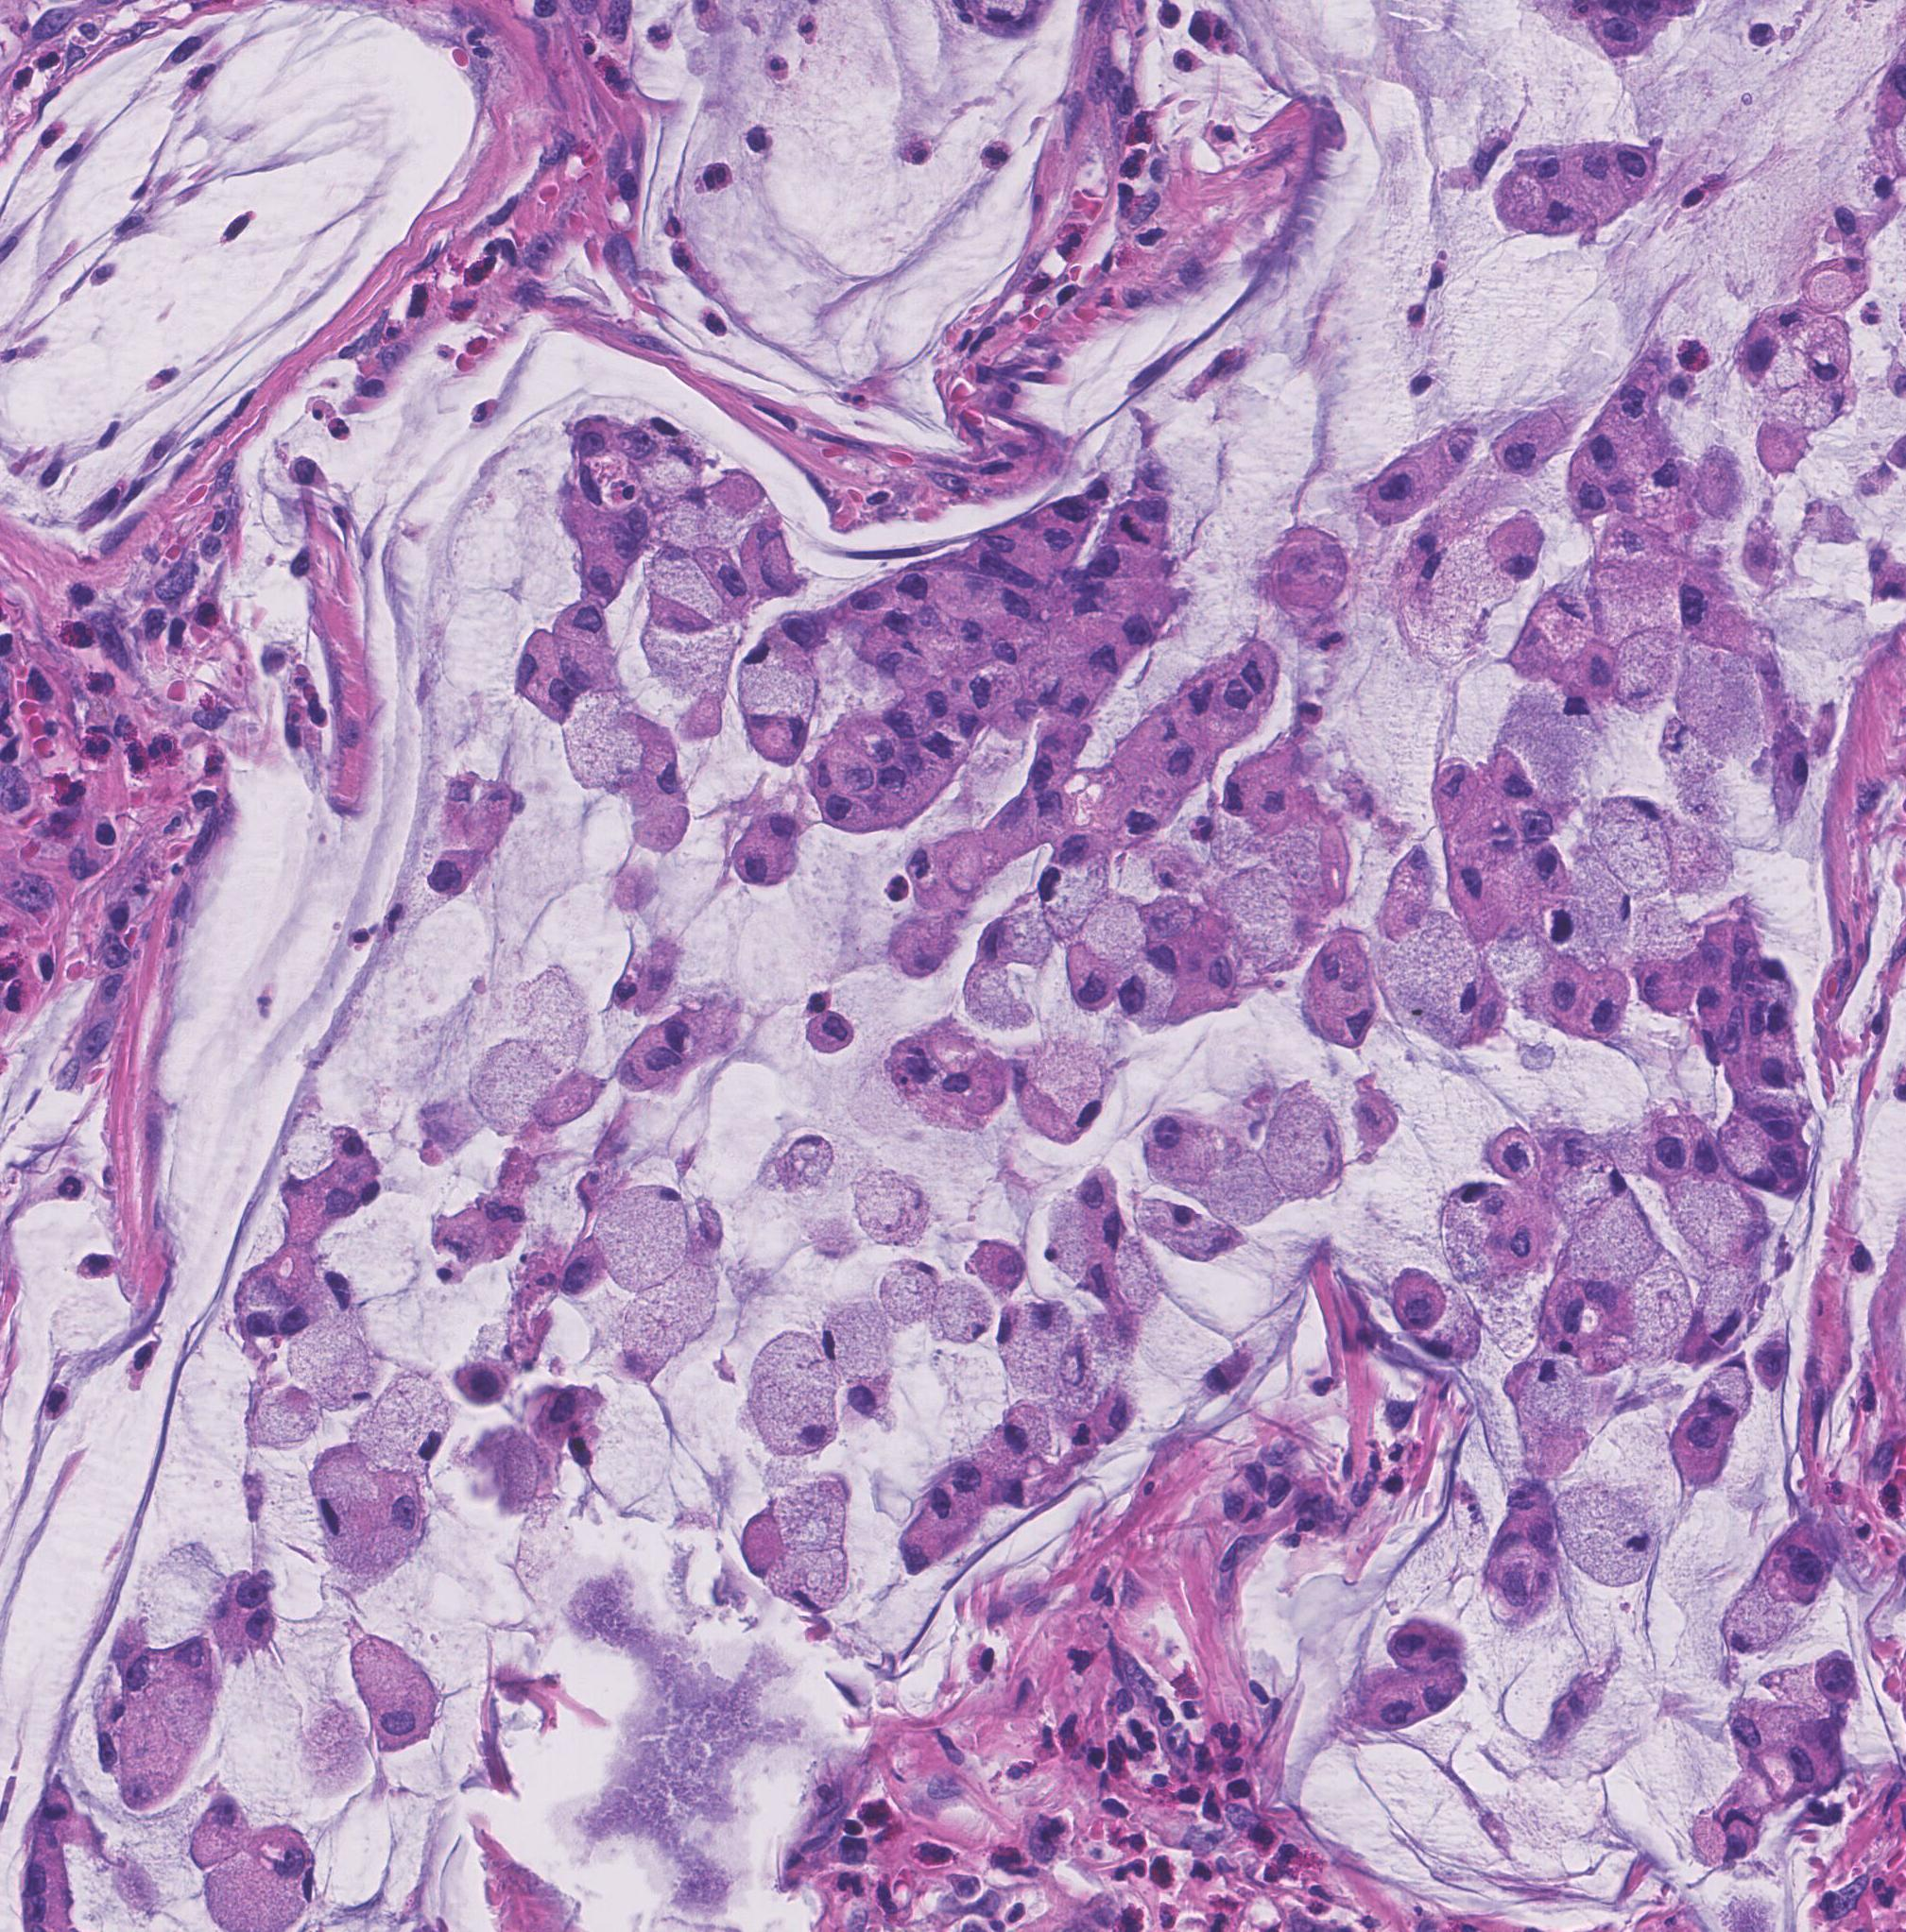ring_cell_cancer: (1505, 1354, 1599, 1478), (1255, 517, 1361, 625), (335, 1449, 426, 1574), (1388, 923, 1478, 1049), (1550, 1487, 1660, 1590), (351, 1375, 456, 1478), (356, 1630, 442, 1750), (751, 1330, 829, 1461), (1255, 1089, 1344, 1202), (1014, 1045, 1114, 1143), (285, 1452, 377, 1552), (609, 1183, 691, 1290), (1594, 792, 1674, 899), (1553, 1127, 1630, 1229), (1676, 1183, 1777, 1260), (1803, 321, 1873, 429), (1143, 1112, 1239, 1190), (1445, 838, 1515, 944), (1138, 1194, 1238, 1264), (548, 600, 614, 705), (744, 635, 824, 721), (1679, 558, 1751, 653), (293, 1335, 379, 1414), (122, 1719, 192, 1810), (122, 1721, 192, 1812), (1765, 1518, 1836, 1606), (1489, 403, 1566, 482), (1672, 1396, 1737, 1489), (1576, 859, 1635, 958), (819, 1302, 895, 1377), (1480, 1538, 1553, 1616), (630, 714, 682, 815), (1231, 642, 1283, 742), (1114, 777, 1180, 853), (691, 545, 758, 621), (569, 496, 655, 555), (1786, 1719, 1850, 1798), (1037, 864, 1105, 937), (656, 998, 744, 1054), (1726, 1581, 1794, 1653), (979, 1401, 1054, 1466), (470, 785, 553, 841), (881, 1024, 939, 1105), (1389, 1265, 1452, 1339), (1543, 1279, 1618, 1340), (1365, 462, 1433, 527), (1438, 1180, 1503, 1248), (1532, 585, 1601, 649), (885, 918, 955, 981), (1487, 511, 1548, 581), (880, 1258, 939, 1330), (1532, 958, 1585, 1038), (1039, 1194, 1087, 1279), (192, 1798, 253, 1866), (1702, 1260, 1752, 1342), (943, 1052, 1007, 1115), (1361, 1674, 1424, 1738), (1349, 1087, 1405, 1159), (1063, 941, 1114, 1019), (1119, 963, 1173, 1037), (1773, 719, 1810, 827), (965, 1236, 1030, 1297), (930, 1286, 997, 1346), (979, 792, 1037, 860), (1433, 756, 1484, 832), (780, 1559, 852, 1613), (1442, 129, 1508, 187), (991, 1305, 1032, 1400), (1377, 1618, 1454, 1667), (1581, 970, 1632, 1044), (744, 710, 810, 766), (1304, 927, 1372, 981), (429, 843, 489, 904), (1316, 986, 1375, 1047), (1581, 1164, 1639, 1225), (1719, 1127, 1773, 1192), (1220, 743, 1265, 820), (1730, 1696, 1782, 1763), (1075, 1269, 1128, 1333), (510, 634, 550, 717), (553, 1244, 611, 1302), (1482, 1127, 1541, 1183), (1189, 953, 1241, 1016), (738, 1513, 789, 1576), (897, 1504, 937, 1583), (1155, 735, 1208, 794), (775, 1133, 834, 1185), (246, 1831, 307, 1881), (1805, 255, 1866, 305), (1740, 307, 1779, 387), (1649, 1113, 1693, 1183), (1705, 1354, 1752, 1419), (923, 728, 963, 803), (531, 1386, 592, 1435), (1688, 1117, 1731, 1185), (1180, 346, 1238, 396), (168, 1635, 220, 1689), (1641, 456, 1695, 508), (873, 759, 911, 831), (908, 846, 951, 909), (452, 1360, 506, 1410), (731, 834, 782, 888), (1555, 1663, 1606, 1717), (305, 1272, 354, 1328), (1145, 930, 1203, 977), (950, 1457, 995, 1517), (925, 1483, 962, 1557), (1150, 846, 1206, 894), (1566, 456, 1608, 518), (581, 545, 625, 604), (759, 534, 801, 595), (1527, 906, 1581, 953), (218, 1607, 278, 1649), (977, 916, 1018, 977), (1094, 1389, 1138, 1445), (1817, 1649, 1861, 1705), (1583, 421, 1627, 476), (1812, 1874, 1868, 1918), (1105, 510, 1162, 552), (848, 719, 899, 766), (1717, 1808, 1763, 1860), (1590, 17, 1642, 63), (1121, 456, 1175, 499), (1030, 743, 1072, 799), (1393, 843, 1433, 901), (1073, 1164, 1121, 1213), (902, 742, 934, 815), (1611, 145, 1658, 194), (325, 1122, 374, 1169), (831, 745, 876, 796), (1056, 829, 1108, 873), (1545, 693, 1599, 735), (1574, 150, 1613, 208), (1524, 199, 1581, 237), (850, 1372, 894, 1422), (632, 1040, 686, 1080), (1262, 775, 1295, 839), (429, 1223, 478, 1267), (820, 792, 871, 834), (1515, 150, 1567, 190), (1482, 970, 1510, 1045), (972, 667, 1026, 705), (1576, 644, 1620, 691), (223, 1571, 276, 1609), (1615, 370, 1653, 422), (1414, 1677, 1468, 1714), (1033, 796, 1079, 839), (1173, 682, 1220, 724), (808, 1014, 855, 1056), (278, 1288, 314, 1340), (250, 1279, 279, 1344), (780, 611, 824, 654), (1532, 1707, 1578, 1749), (843, 586, 902, 618), (759, 806, 801, 850), (480, 1201, 524, 1243), (1030, 1300, 1075, 1340), (995, 696, 1035, 740), (560, 1433, 604, 1473), (609, 965, 648, 1011), (1093, 1206, 1122, 1264), (1524, 853, 1562, 897), (291, 452, 330, 494), (1046, 494, 1089, 529), (881, 705, 930, 735), (951, 705, 984, 749), (892, 569, 936, 602), (920, 682, 958, 717), (351, 1176, 387, 1206), (1077, 475, 1112, 504), (881, 607, 916, 635)
